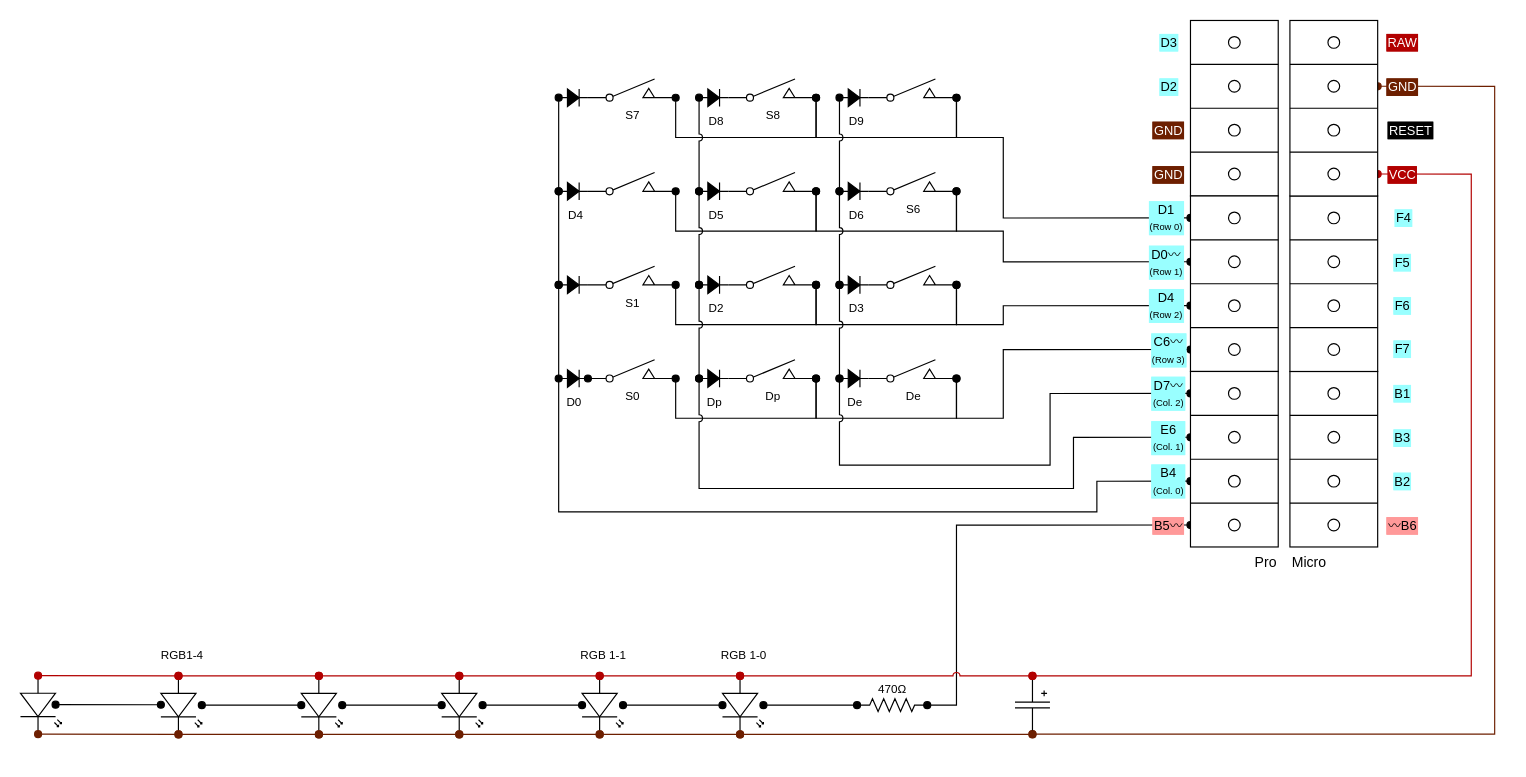
Some shapes in this 1526 by 777 pixel diagram are drawn without their labels. Here are the shapes that lost their labels. From the top down, the box of each, then its label:
(558, 88, 588, 106): D7
(868, 78, 956, 101): S9
(587, 171, 676, 195): S4
(727, 171, 816, 195): S5
(558, 275, 588, 294): D1
(727, 265, 816, 288): S2
(868, 265, 956, 288): S3
(19, 675, 61, 734): RGB2-4
(300, 675, 342, 734): RGB1-3
(441, 675, 483, 734): RGB 1-2
(1014, 675, 1050, 734): 1000µF
